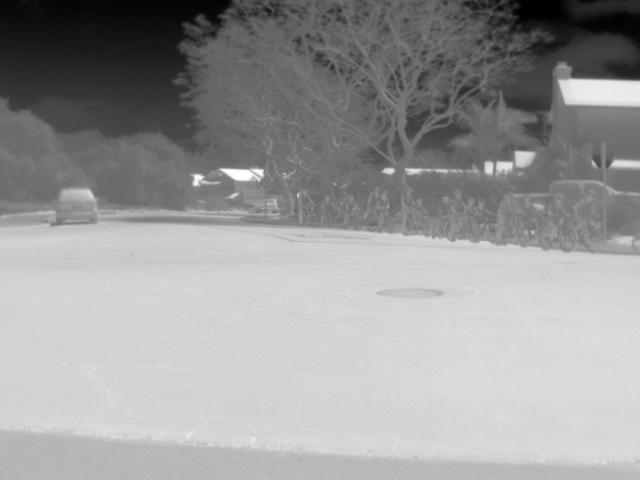car: (511, 177, 602, 205), (54, 183, 99, 225), (606, 182, 640, 225)
person: (493, 186, 520, 240), (571, 186, 603, 230), (546, 190, 570, 231), (398, 184, 417, 235), (340, 193, 362, 230), (449, 186, 469, 226), (295, 186, 315, 223), (363, 184, 383, 220), (319, 190, 337, 225), (522, 192, 542, 221), (464, 196, 485, 221), (376, 190, 391, 218), (437, 195, 456, 217), (413, 196, 433, 215), (475, 196, 492, 215)
